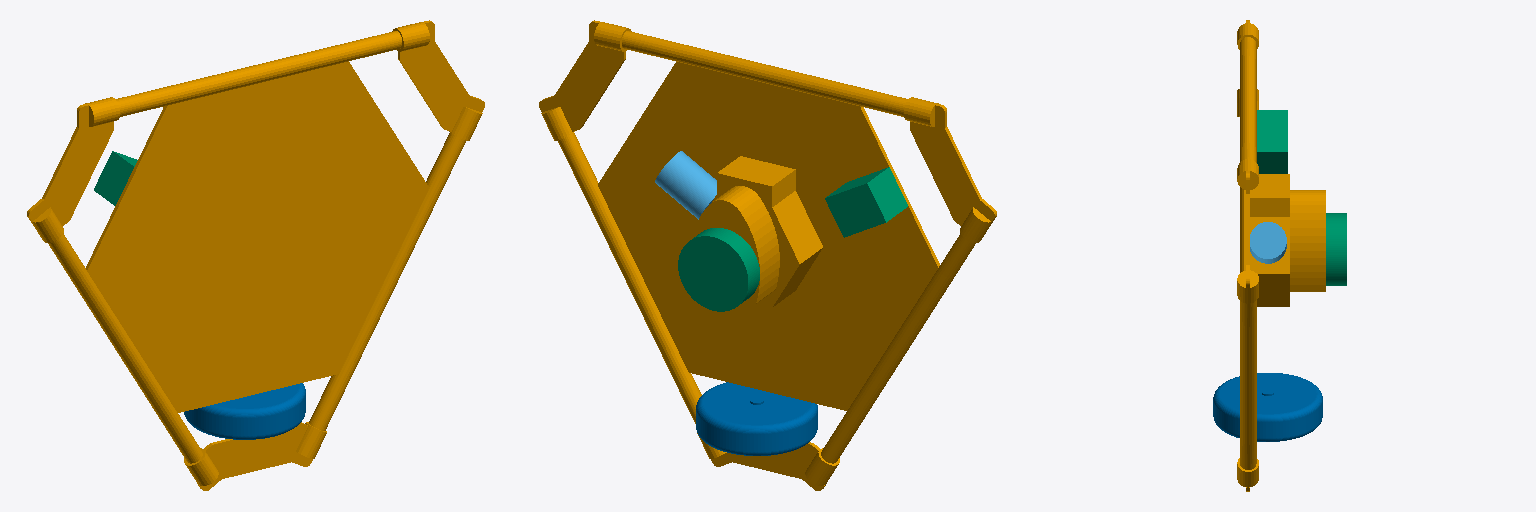
robot.urdf — Digital:
<?xml version='1.0' encoding='utf-8'?>
<robot name="Digital">
    <link name="BaseFrame">
        <inertial>
            <origin xyz="6.220516227138173e-07 0.015720460645053943 0.003771593011300329" rpy="0.0 0.0 0.0" />
            <mass value="8.741348768419334" />
            <inertia ixx="0.05878328648875511" iyy="0.10720832008945891" izz="0.05729448458823833" ixy="8.556860355420218e-08" iyz="-0.0006208696444277885" ixz="-3.941352884719564e-06" />
        </inertial>
        <visual name="BaseFrame_visual">
            <origin xyz="0.0 0.0 0.0" rpy="0.0 0.0 0.0" />
            <geometry>
                <mesh filename="meshes/BaseFrame.stl" scale="0.001 0.001 0.001" />
            </geometry>
        </visual>
        <collision name="BaseFrame_collision">
            <origin xyz="0.0 0.0 0.0" rpy="0.0 0.0 0.0" />
            <geometry>
                <mesh filename="meshes/BaseFrame.stl" scale="0.001 0.001 0.001" />
            </geometry>
        </collision>
    </link>
    <link name="Wheel1">
        <inertial>
            <origin xyz="-7.182858308141247e-10 1.5543122344752193e-17 0.017147542624793656" rpy="0.0 5.551115123125783e-17 0.0" />
            <mass value="2.006420398400055" />
            <inertia ixx="0.001469647893885064" iyy="0.001469647893808726" izz="0.0026279102091307425" ixy="1.6185190373569832e-18" iyz="1.0686337297429578e-18" ixz="4.96564594998361e-17" />
        </inertial>
        <visual name="Wheel1_visual">
            <origin xyz="-7.18276149792724e-10 0.01905 -0.15028798124409087" rpy="3.141592653589793 1.1102230246251568e-16 0.0" />
            <geometry>
                <mesh filename="meshes/Wheel1.stl" scale="0.001 0.001 0.001" />
            </geometry>
        </visual>
        <collision name="Wheel1_collision">
            <origin xyz="-7.18276149792724e-10 0.01905 -0.15028798124409087" rpy="3.141592653589793 1.1102230246251568e-16 0.0" />
            <geometry>
                <mesh filename="meshes/Wheel1.stl" scale="0.001 0.001 0.001" />
            </geometry>
        </collision>
    </link>
    <link name="Gearbox1">
        <inertial>
            <origin xyz="7.182758210433349e-10 0.01905 -0.024499996718548064" rpy="0.0 -0.0 0.0" />
            <mass value="0.5583617865000003" />
            <inertia ixx="0.00017926251685731348" iyy="0.00017926251685731337" izz="0.00013508725881687786" ixy="-2.168404344971005e-19" iyz="3.755786496842899e-19" ixz="-3.5236570605778894e-19" />
        </inertial>
        <visual name="Gearbox1_visual">
            <origin xyz="7.182761496693502e-10 0.0 -0.15028798124409085" rpy="0.0 1.047197551196598 0.0" />
            <geometry>
                <mesh filename="meshes/Gearbox1.stl" scale="0.001 0.001 0.001" />
            </geometry>
        </visual>
        <collision name="Gearbox1_collision">
            <origin xyz="7.182761496693502e-10 0.0 -0.15028798124409085" rpy="0.0 1.047197551196598 0.0" />
            <geometry>
                <mesh filename="meshes/Gearbox1.stl" scale="0.001 0.001 0.001" />
            </geometry>
        </collision>
    </link>
    <link name="Motor1">
        <inertial>
            <origin xyz="-3.110994586386084e-09 -6.661338147750939e-18 0.025500000862858557" rpy="0.0 -5.551115123125784e-17 0.0" />
            <mass value="0.4075066645121547" />
            <inertia ixx="0.000121335109358496" iyy="0.00012133510935849337" izz="6.60160796509679e-05" ixy="3.2421776383058307e-20" iyz="2.691044877785578e-19" ixz="-2.371692252312041e-19" />
        </inertial>
        <visual name="Motor1_visual">
            <origin xyz="-3.110994901689423e-09 -0.01905 0.10128798538840127" rpy="3.141592653589793 -1.0471975511965979 3.141592653589793" />
            <geometry>
                <mesh filename="meshes/Motor1.stl" scale="0.001 0.001 0.001" />
            </geometry>
        </visual>
        <collision name="Motor1_collision">
            <origin xyz="-3.110994901689423e-09 -0.01905 0.10128798538840127" rpy="3.141592653589793 -1.0471975511965979 3.141592653589793" />
            <geometry>
                <mesh filename="meshes/Motor1.stl" scale="0.001 0.001 0.001" />
            </geometry>
        </collision>
    </link>
    <link name="Wheel2">
        <inertial>
            <origin xyz="0.014850208602966947 1.5543122344752193e-17 -0.008573771934433863" rpy="0.0 5.551115123125783e-17 0.0" />
            <mass value="2.006420398400055" />
            <inertia ixx="0.002338344630319266" iyy="0.001469647893808726" izz="0.0017592134726965368" ixy="-2.9559169481946623e-21" iyz="-1.739843274314035e-18" ixz="-0.0005015422946244938" />
        </inertial>
        <visual name="Wheel2_visual">
            <origin xyz="-0.13015320856344764 0.01905 0.07514398999999997" rpy="0.0 1.0471975511965979 3.141592653589793" />
            <geometry>
                <mesh filename="meshes/Wheel2.stl" scale="0.001 0.001 0.001" />
            </geometry>
        </visual>
        <collision name="Wheel2_collision">
            <origin xyz="-0.13015320856344764 0.01905 0.07514398999999997" rpy="0.0 1.0471975511965979 3.141592653589793" />
            <geometry>
                <mesh filename="meshes/Wheel2.stl" scale="0.001 0.001 0.001" />
            </geometry>
        </collision>
    </link>
    <link name="Gearbox2">
        <inertial>
            <origin xyz="-4.174438572590589e-16 0.01905 -0.024499995474457244" rpy="0.0 -0.0 0.0" />
            <mass value="0.5583617865000003" />
            <inertia ixx="0.00017926251685731337" iyy="0.0001792625168573151" izz="0.00013508725881687745" ixy="-8.818923851428391e-20" iyz="2.168404344971009e-19" ixz="-4.205051283485158e-19" />
        </inertial>
        <visual name="Gearbox2_visual">
            <origin xyz="0.0 0.0 -0.15028798000000002" rpy="0.0 1.0471975511965974 0.0" />
            <geometry>
                <mesh filename="meshes/Gearbox2.stl" scale="0.001 0.001 0.001" />
            </geometry>
        </visual>
        <collision name="Gearbox2_collision">
            <origin xyz="0.0 0.0 -0.15028798000000002" rpy="0.0 1.0471975511965974 0.0" />
            <geometry>
                <mesh filename="meshes/Gearbox2.stl" scale="0.001 0.001 0.001" />
            </geometry>
        </collision>
    </link>
    <link name="Motor2">
        <inertial>
            <origin xyz="-0.022083643877268404 -6.661338147750939e-18 -0.012749997737228309" rpy="0.0 -5.551115123125784e-17 0.0" />
            <mass value="0.4075066645121547" />
            <inertia ixx="7.984583707784952e-05" iyy="0.00012133510935849337" izz="0.00010750535193161393" ixy="-2.86329525777864e-19" iyz="-1.5458401713693968e-19" ixz="-2.395384251971233e-05" />
        </inertial>
        <visual name="Motor2_visual">
            <origin xyz="-0.08771796377801014 -0.01905 -0.05064398999999997" rpy="3.141592653589793 1.047197551196598 3.141592653589793" />
            <geometry>
                <mesh filename="meshes/Motor2.stl" scale="0.001 0.001 0.001" />
            </geometry>
        </visual>
        <collision name="Motor2_collision">
            <origin xyz="-0.08771796377801014 -0.01905 -0.05064398999999997" rpy="3.141592653589793 1.047197551196598 3.141592653589793" />
            <geometry>
                <mesh filename="meshes/Motor2.stl" scale="0.001 0.001 0.001" />
            </geometry>
        </collision>
    </link>
    <link name="Wheel3">
        <inertial>
            <origin xyz="-0.014850207884681126 1.7763568394002505e-17 -0.008573770690359766" rpy="0.0 -5.5511151231257815e-17 0.0" />
            <mass value="2.006420398400055" />
            <inertia ixx="0.0023383446303193644" iyy="0.0014696478938087051" izz="0.0017592134726964349" ixy="-1.0686337297429578e-18" iyz="1.618519037356983e-18" ixz="0.0005015422946244375" />
        </inertial>
        <visual name="Wheel3_visual">
            <origin xyz="0.13015320928172383 0.019050000000000004 0.07514399124409088" rpy="0.0 -1.047197551196598 3.141592653589793" />
            <geometry>
                <mesh filename="meshes/Wheel3.stl" scale="0.001 0.001 0.001" />
            </geometry>
        </visual>
        <collision name="Wheel3_collision">
            <origin xyz="0.13015320928172383 0.019050000000000004 0.07514399124409088" rpy="0.0 -1.047197551196598 3.141592653589793" />
            <geometry>
                <mesh filename="meshes/Wheel3.stl" scale="0.001 0.001 0.001" />
            </geometry>
        </collision>
    </link>
    <link name="Gearbox3">
        <inertial>
            <origin xyz="-7.182765937585601e-10 0.01905 -0.02449999671854808" rpy="0.0 -0.0 0.0" />
            <mass value="0.5583617865000003" />
            <inertia ixx="0.00017926251685731535" iyy="0.00017926251685731337" izz="0.00013508725881687818" ixy="-2.671584324357392e-19" iyz="4.0462975933924594e-19" ixz="-8.809142651444724e-19" />
        </inertial>
        <visual name="Gearbox3_visual">
            <origin xyz="-7.182762562507606e-10 0.0 -0.15028798124409087" rpy="0.0 1.0471975511965979 0.0" />
            <geometry>
                <mesh filename="meshes/Gearbox3.stl" scale="0.001 0.001 0.001" />
            </geometry>
        </visual>
        <collision name="Gearbox3_collision">
            <origin xyz="-7.182762562507606e-10 0.0 -0.15028798124409087" rpy="0.0 1.0471975511965979 0.0" />
            <geometry>
                <mesh filename="meshes/Gearbox3.stl" scale="0.001 0.001 0.001" />
            </geometry>
        </collision>
    </link>
    <link name="Motor3">
        <inertial>
            <origin xyz="0.02208364698826296 -6.661338147750939e-18 -0.01275000312563022" rpy="0.0 5.551115123125783e-17 0.0" />
            <mass value="0.4075066645121547" />
            <inertia ixx="7.984583707784998e-05" iyy="0.00012133510935849294" izz="0.00010750535193161376" ixy="2.0231487966962285e-19" iyz="-1.3357921621786973e-19" ixz="2.39538425197127e-05" />
        </inertial>
        <visual name="Motor3_visual">
            <origin xyz="0.08771796688900507 -0.01905 -0.05064399538840131" rpy="0.0 5.5511151231257815e-17 0.0" />
            <geometry>
                <mesh filename="meshes/Motor3.stl" scale="0.001 0.001 0.001" />
            </geometry>
        </visual>
        <collision name="Motor3_collision">
            <origin xyz="0.08771796688900507 -0.01905 -0.05064399538840131" rpy="0.0 5.5511151231257815e-17 0.0" />
            <geometry>
                <mesh filename="meshes/Motor3.stl" scale="0.001 0.001 0.001" />
            </geometry>
        </collision>
    </link>
    <link name="RPLiDAR">
        <inertial>
            <origin xyz="-1.2104397782014283e-13 -1.6008232234468676e-13 0.009999999999995212" rpy="0.0 -0.0 0.0" />
            <mass value="0.6042068071017083" />
            <inertia ixx="0.00020517856157828505" iyy="0.00020517856157829546" izz="0.00037007666934979326" ixy="-8.924415590375263e-20" iyz="-3.54477833706305e-18" ixz="-2.6773249932504712e-20" />
        </inertial>
        <visual name="RPLiDAR_visual">
            <origin xyz="0.0 0.0 -0.07440000000000001" rpy="1.5707963267948966 -0.0 0.0" />
            <geometry>
                <mesh filename="meshes/RPLiDAR.stl" scale="0.001 0.001 0.001" />
            </geometry>
        </visual>
        <collision name="RPLiDAR_collision">
            <origin xyz="0.0 0.0 -0.07440000000000001" rpy="1.5707963267948966 -0.0 0.0" />
            <geometry>
                <mesh filename="meshes/RPLiDAR.stl" scale="0.001 0.001 0.001" />
            </geometry>
        </collision>
    </link>
    <joint name="Gearbox1_Rigid-1" type="fixed">
        <origin xyz="-2.392718752020073e-09 0.01905 -0.04899999585568958" rpy="3.141592653589793 -7.771561172376094e-16 3.141592653589793" />
        <parent link="Gearbox1" />
        <child link="Motor1" />
    </joint>
    <joint name="BaseFrame_Rigid-2" type="fixed">
        <origin xyz="-0.13015321 0.0 0.07514399000000001" rpy="0.0 -1.0471975511965987 0.0" />
        <parent link="BaseFrame" />
        <child link="Gearbox1" />
    </joint>
    <joint name="Gearbox2_Rigid-18" type="fixed">
        <origin xyz="0.0 0.01905 -0.049" rpy="0.0 -1.0471975511965979 0.0" />
        <parent link="Gearbox2" />
        <child link="Motor2" />
    </joint>
    <joint name="BaseFrame_Rigid-19" type="fixed">
        <origin xyz="0.0 0.0 -0.15028798000000002" rpy="3.141592653589793 9.014058568467967e-16 3.141592653589793" />
        <parent link="BaseFrame" />
        <child link="Gearbox2" />
    </joint>
    <joint name="Gearbox3_Rigid-20" type="fixed">
        <origin xyz="2.3927187164929367e-09 0.01905 -0.04899999585568958" rpy="0.0 1.047197551196598 0.0" />
        <parent link="Gearbox3" />
        <child link="Motor3" />
    </joint>
    <joint name="BaseFrame_Rigid-21" type="fixed">
        <origin xyz="0.13015321 0.0 0.07514399000000001" rpy="0.0 1.0471975511965972 0.0" />
        <parent link="BaseFrame" />
        <child link="Gearbox3" />
    </joint>
    <joint name="Gearbox1_Revolute-25" type="continuous">
        <origin xyz="0.0 0.01905 0.0" rpy="0.0 -8.326672684688672e-16 3.141592653589793" />
        <parent link="Gearbox1" />
        <child link="Wheel1" />
        <axis xyz="-2.0189221949795666e-07 0.0 0.9999996503124187" />
    </joint>
    <joint name="Gearbox2_Revolute-26" type="continuous">
        <origin xyz="0.0 0.01905 0.0" rpy="3.141592653589793 -1.0471975511965976 0.0" />
        <parent link="Gearbox2" />
        <child link="Wheel2" />
        <axis xyz="0.8660254037844388 0.0 -0.4999999999999999" />
    </joint>
    <joint name="Gearbox3_Revolute-27" type="continuous">
        <origin xyz="0.0 0.01905 0.0" rpy="3.141592653589793 1.047197551196598 0.0" />
        <parent link="Gearbox3" />
        <child link="Wheel3" />
        <axis xyz="-0.8660252018922192 0.0 -0.49999965031241866" />
    </joint>
    <joint name="BaseFrame_Rigid-28" type="fixed">
        <origin xyz="0.0 0.07440000000000001 0.0" rpy="-1.5707963267948966 -0.0 0.0" />
        <parent link="BaseFrame" />
        <child link="RPLiDAR" />
    </joint>
</robot>

--- Facts derived from the render (not from the file) ---
The picture shows the robot from 3 angles, left to right: view 1: azimuth 30°, elevation 25°; view 2: azimuth 150°, elevation 25°; view 3: azimuth 270°, elevation 25°; orthographic projection.
Robot: Digital — 11 links, 10 joints (3 continuous, 7 fixed); root link BaseFrame; default pose: all joints at 0.
Visible links, largest first — view 1: BaseFrame, Wheel2, Gearbox1; view 2: BaseFrame, Wheel2, RPLiDAR, Gearbox1, Motor3; view 3: BaseFrame, Wheel2, Gearbox1, RPLiDAR, Motor3.
Boxes of the visible links, box(x1,y1,x2,y2) form: BaseFrame: box(27, 20, 484, 490); Wheel2: box(184, 383, 305, 439); Gearbox1: box(94, 151, 137, 205); BaseFrame: box(539, 20, 996, 490); Wheel2: box(696, 382, 817, 455); RPLiDAR: box(678, 228, 759, 311); Gearbox1: box(825, 167, 907, 237); Motor3: box(655, 151, 716, 219); BaseFrame: box(1237, 20, 1325, 491); Wheel2: box(1213, 373, 1322, 441); Gearbox1: box(1257, 110, 1287, 173); RPLiDAR: box(1326, 213, 1346, 285); Motor3: box(1250, 222, 1286, 263).
Bounding box of the posed robot: 0.4535 × 0.1278 × 0.3942 m (x, y, z).
Meshes: 11 distinct files referenced, 5 mesh visuals loaded (5 binary STL); not drawn: 6 (reference not matched to a file when rendering).